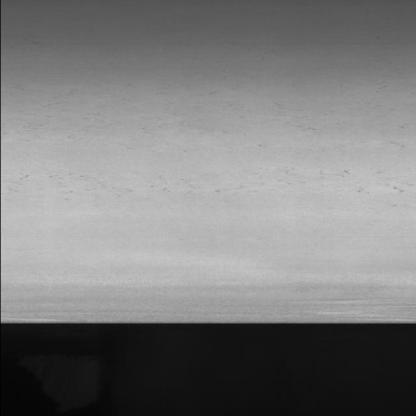silk_spot: (73, 150, 415, 204)
